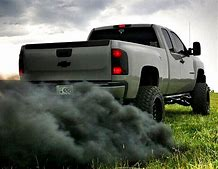smoke: (1, 85, 165, 169)
